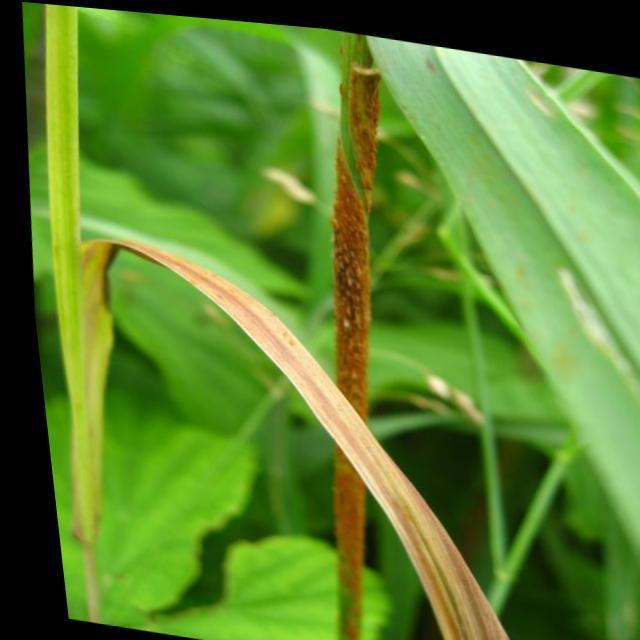Stem_Rust: (109, 239, 495, 639), (325, 52, 379, 419), (321, 438, 353, 639)
